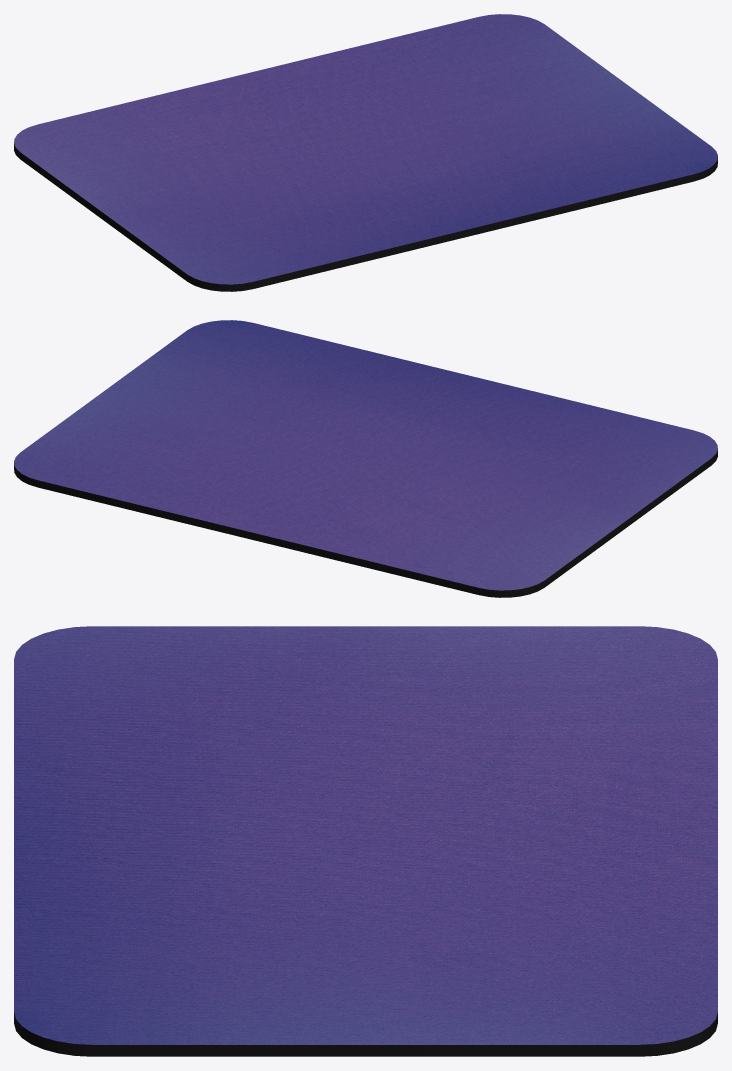
Rendered from Mouse pad.FBX.
3 renders of one model, top to bottom at view 1: azimuth 30°, elevation 25°; view 2: azimuth 150°, elevation 25°; view 3: azimuth 270°, elevation 25°, orthographic. The views are drawn at different scales.
Parts seen in each view (by area): view 1: Mouse pad; view 2: Mouse pad; view 3: Mouse pad.
Boxes of the visible parts, box(x1,y1,x2,y2) form: Mouse pad: box(14, 14, 717, 291); Mouse pad: box(14, 320, 717, 597); Mouse pad: box(14, 626, 717, 1056).
Size of the model in its own units: 29.87 by 0.3962 by 21.22.
